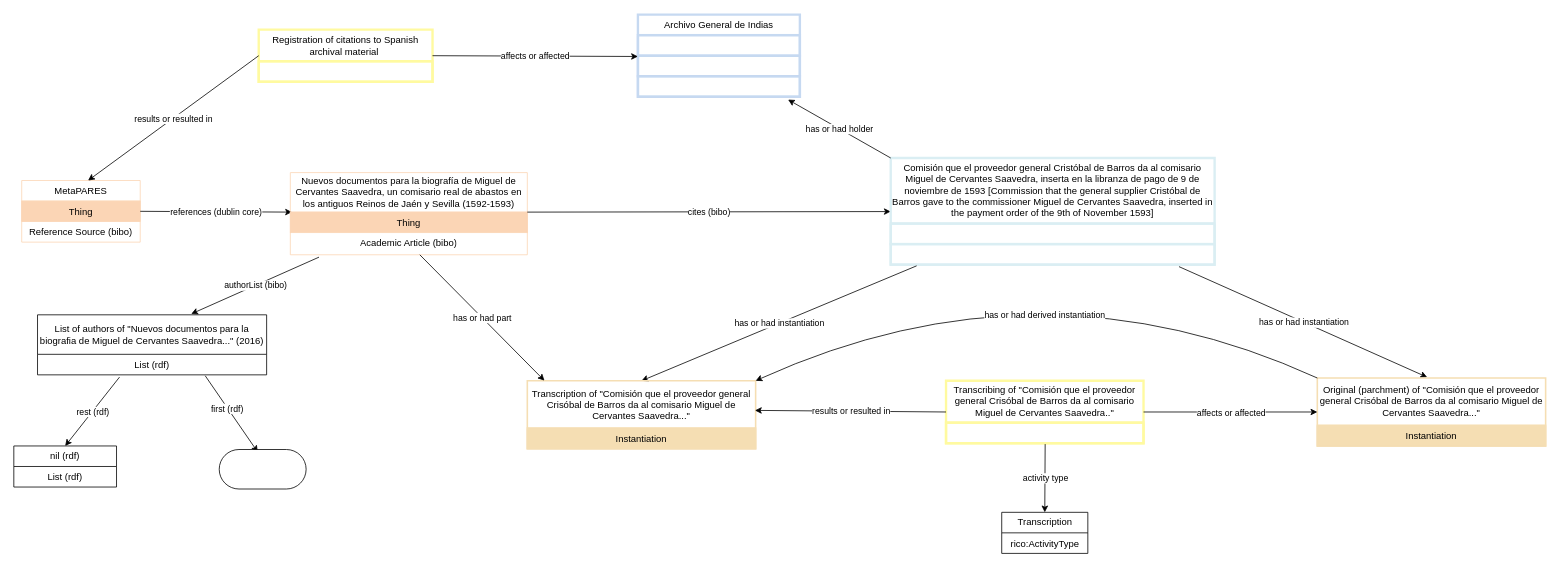
The diagram is 1560 pixels wide and 570 high, and some of its shapes have lost their labels. Here are the shapes that lost their labels. From the top down, the centre of each, then its label:
At pixel 718 45: "Corporate Body".
At pixel 718 65: "Place".
At pixel 345 71: "Activity".
At pixel 718 86: "Record Set".
At pixel 1052 233: "Record".
At pixel 1052 254: "Document (bibo)".
At pixel 1044 432: "rico:Activity".
At pixel 262 469: "José Cabello Núñez".
